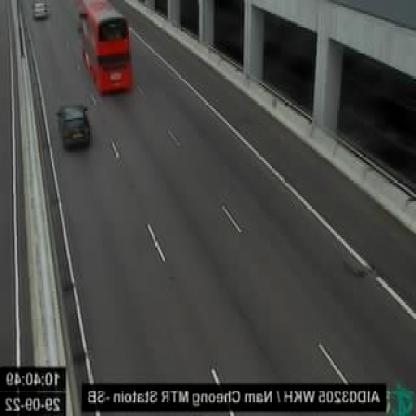Bus: (78, 0, 136, 111)
Car: (53, 100, 99, 151), (24, 0, 54, 24)
